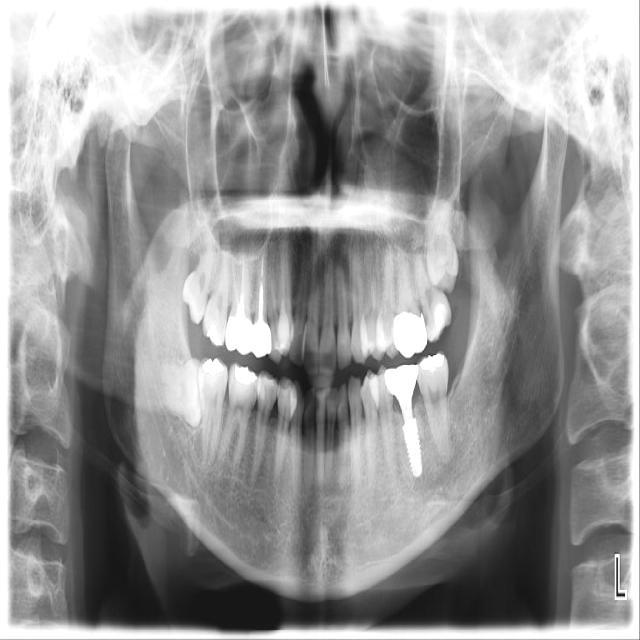Crown: (226, 313, 272, 356), (394, 308, 429, 357)
Filling: (384, 366, 417, 400), (429, 302, 450, 339), (418, 352, 447, 373), (232, 366, 258, 387), (198, 357, 226, 374), (205, 325, 223, 346)
Implant: (402, 419, 423, 476)
Root Canal Treatment: (241, 253, 244, 316), (234, 255, 236, 307)
impacted tooth: (422, 199, 459, 289), (157, 359, 200, 429)
